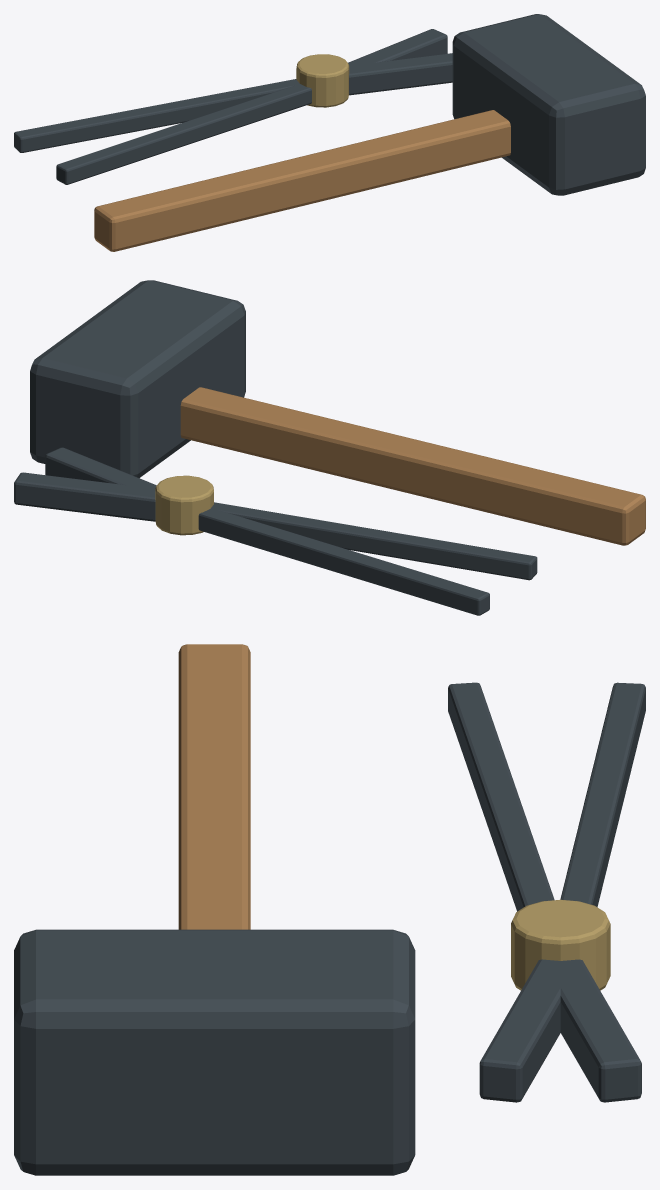
File: smith_hand_tools.glb
3 views of the same model, one above another, from view 1: azimuth 30°, elevation 25°; view 2: azimuth 150°, elevation 25°; view 3: azimuth 270°, elevation 25° (orthographic). The views are drawn at different scales.
Visible parts, largest first — view 1: Forged hammer head, Hammer haft, Tongs handle, Tongs handle.001, Tongs jaw, Tongs pivot, Tongs jaw.001; view 2: Forged hammer head, Hammer haft, Tongs handle.001, Tongs handle, Tongs jaw.001, Tongs pivot, Tongs jaw; view 3: Forged hammer head, Hammer haft, Tongs handle, Tongs handle.001, Tongs jaw, Tongs jaw.001, Tongs pivot.
Boxes of the visible parts, x1,y1,x2,y2 form: Forged hammer head: [452, 14, 645, 195]; Hammer haft: [94, 110, 510, 251]; Tongs handle: [56, 84, 311, 184]; Tongs handle.001: [14, 79, 300, 152]; Tongs jaw: [349, 53, 452, 95]; Tongs pivot: [296, 54, 349, 107]; Tongs jaw.001: [348, 29, 447, 67]; Forged hammer head: [30, 280, 245, 478]; Hammer haft: [180, 387, 645, 545]; Tongs handle.001: [198, 508, 489, 615]; Tongs handle: [211, 502, 537, 580]; Tongs jaw.001: [14, 472, 155, 521]; Tongs pivot: [155, 475, 213, 535]; Tongs jaw: [45, 447, 156, 490]; Forged hammer head: [14, 929, 415, 1175]; Hammer haft: [178, 644, 250, 929]; Tongs handle: [448, 682, 554, 911]; Tongs handle.001: [560, 682, 645, 907]; Tongs jaw: [479, 959, 575, 1102]; Tongs jaw.001: [560, 959, 641, 1102]; Tongs pivot: [511, 899, 610, 990].
Bounding box in the file's own units: 0.3875 × 0.07 × 0.2283.
